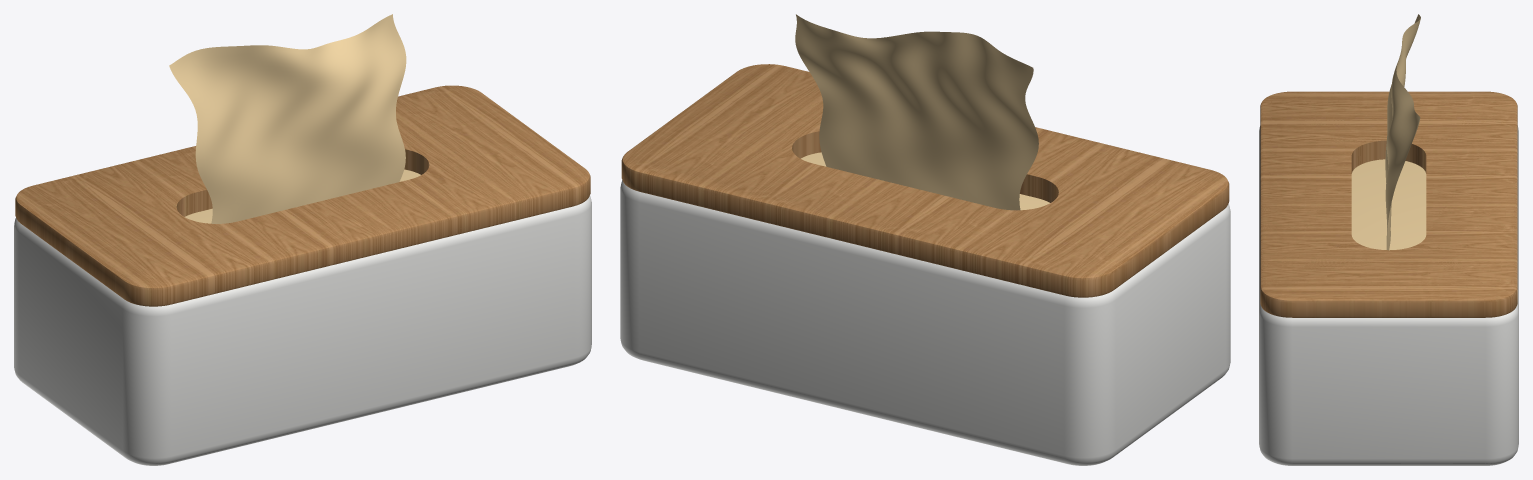
The picture shows the model from 3 angles, left to right: view 1: azimuth 30°, elevation 25°; view 2: azimuth 150°, elevation 25°; view 3: azimuth 270°, elevation 25°; orthographic projection. The views are drawn at different scales.
Parts seen in each view (by area): view 1: Rangchhelo Wood Lid Tissue Box; view 2: Rangchhelo Wood Lid Tissue Box; view 3: Rangchhelo Wood Lid Tissue Box.
Part boxes in pixels (left/top/right/bottom): Rangchhelo Wood Lid Tissue Box: left=14, top=14, right=591, bottom=465; Rangchhelo Wood Lid Tissue Box: left=620, top=14, right=1230, bottom=465; Rangchhelo Wood Lid Tissue Box: left=1259, top=14, right=1518, bottom=465.
Size of the model in its own units: 0.24 by 0.163 by 0.125.
3 materials, 1 textured.
